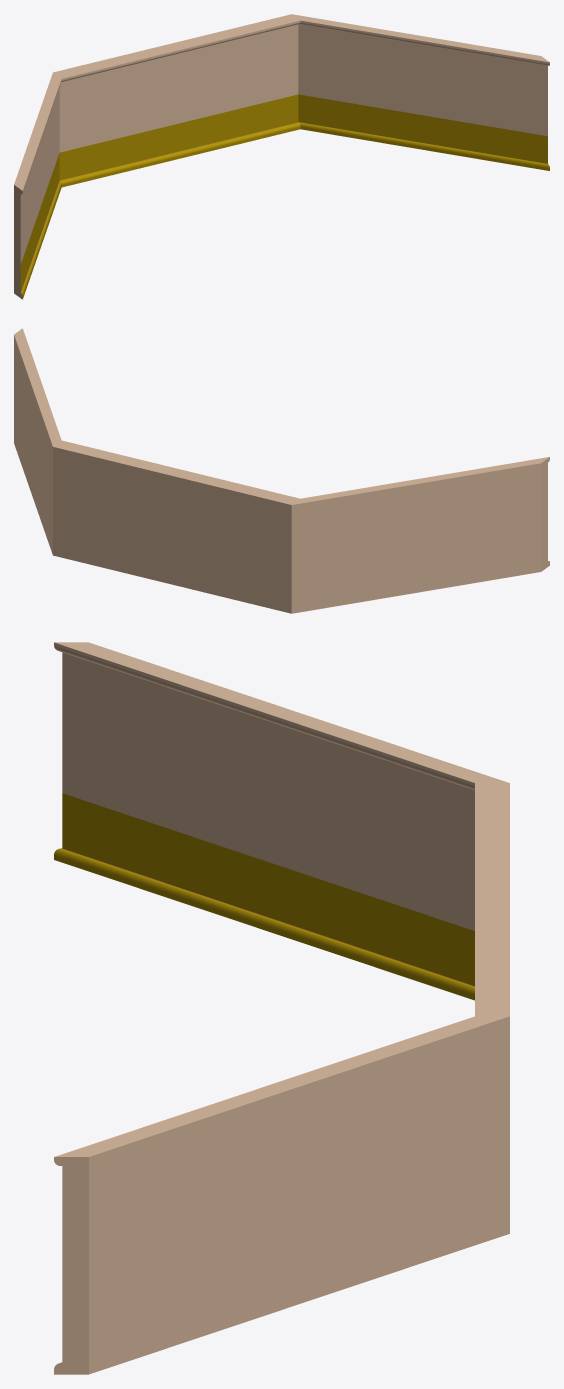
File: MenuRoom.dae
3 renders of one model, top to bottom at view 1: azimuth 30°, elevation 25°; view 2: azimuth 150°, elevation 25°; view 3: azimuth 270°, elevation 25°, orthographic. The views are drawn at different scales.
Parts seen in each view (by area): view 1: Cube; view 2: Cube; view 3: Cube.
Part boxes in pixels (x1,y1,x2,y2): Cube: (14, 14, 549, 299); Cube: (14, 328, 549, 613); Cube: (54, 642, 509, 1374).
Bounding box in the file's own units: 23.56 × 8.82 × 4.64.
Materials: 1 (1 with a texture image).
